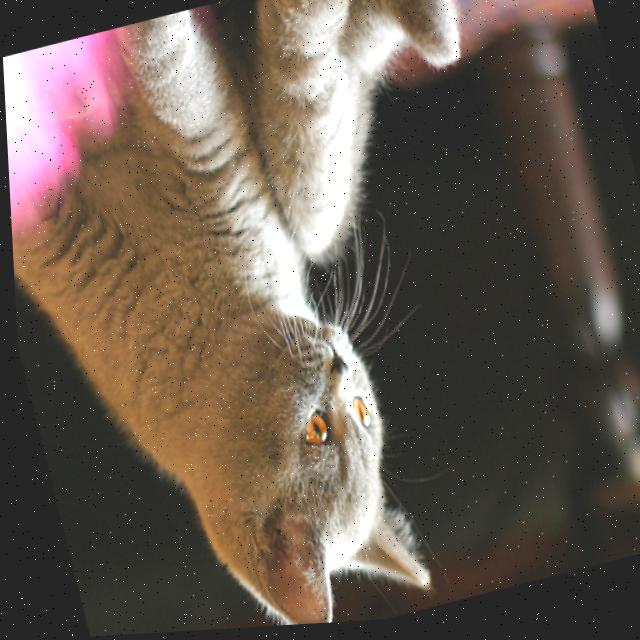British Shorthair: (0, 0, 590, 640)
